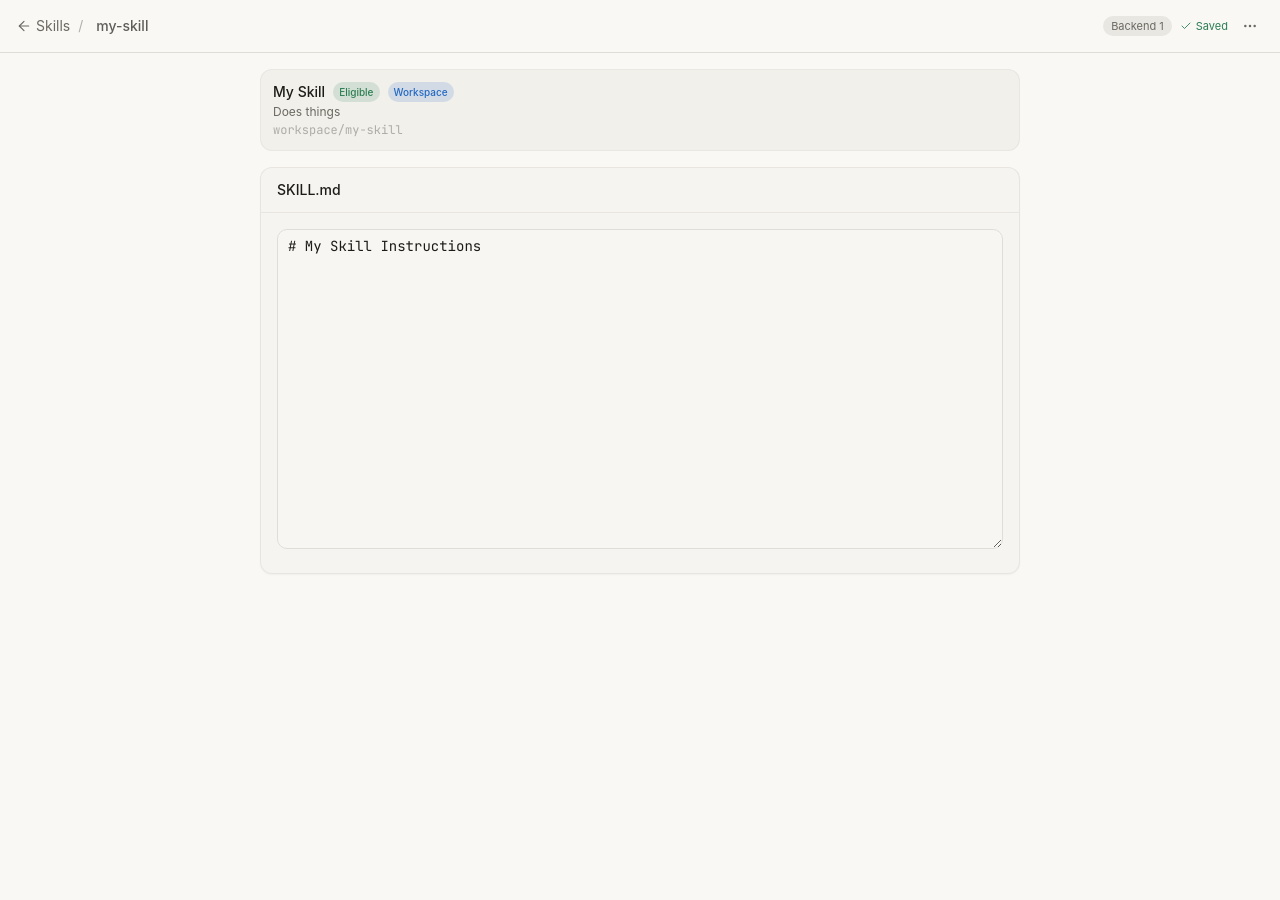
Scenario: SkillEditor › surfaces a failed save via the save-state indicator and an inline error
Replace the text in the text box showing "# My Skill Instructions" with "# Updated" at (640, 389), box [277,229,1003,549]
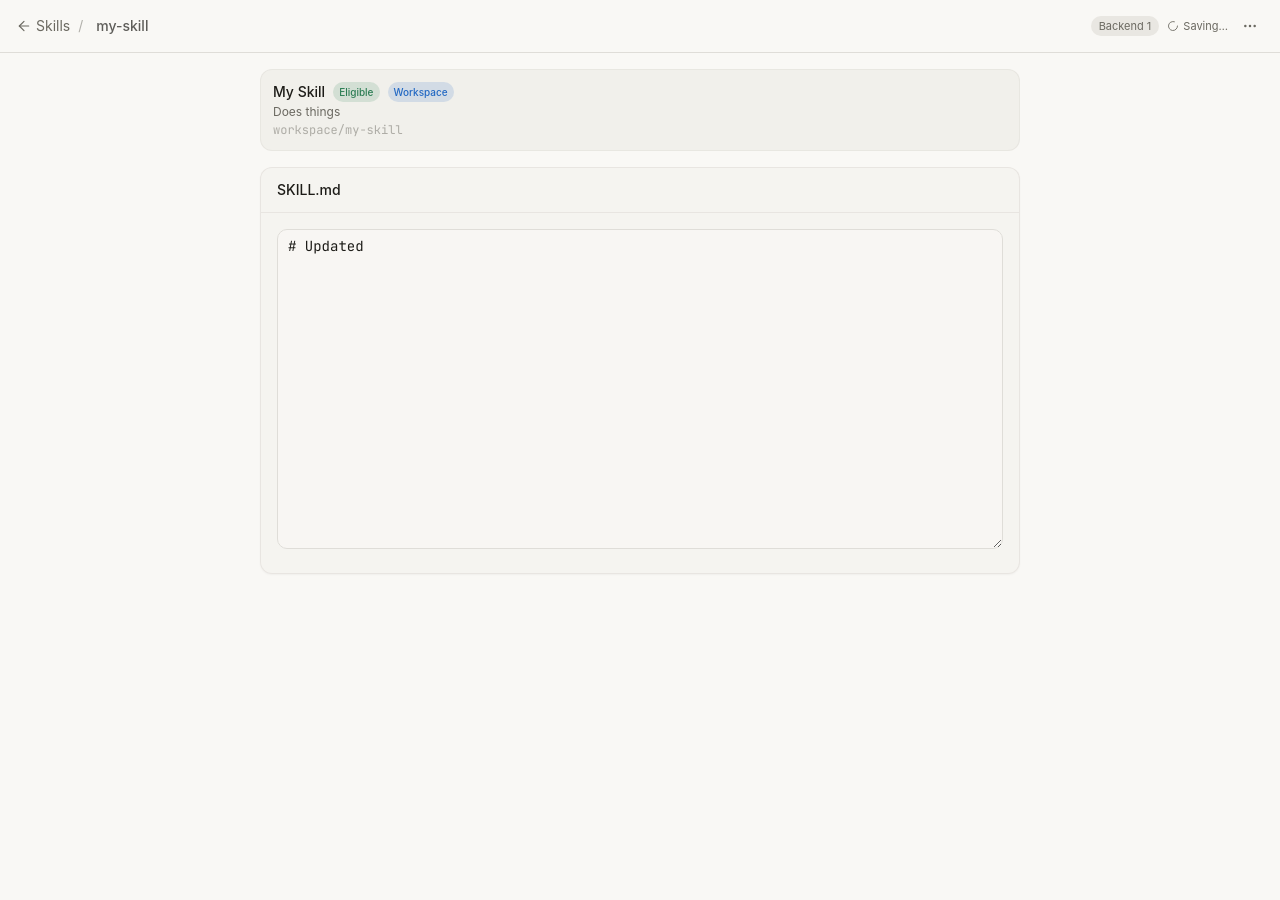
Leave the text box showing "# My Skill Instructions", box [277,229,1003,549]
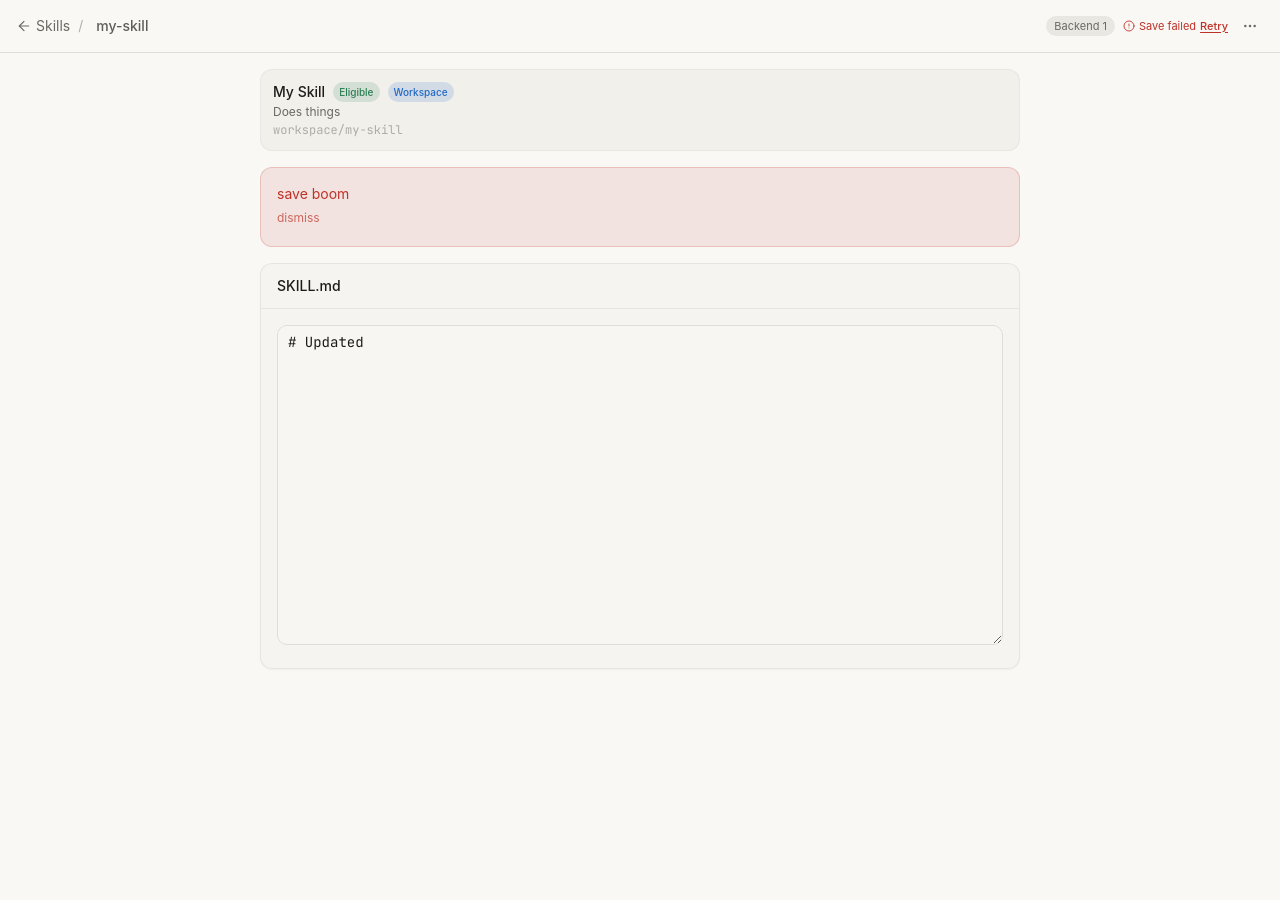
Expected: the text "save boom" is shown, [277,185,349,202]
Expected: the element with test id "save-state" shows "Save failed", [1139,19,1196,33]
